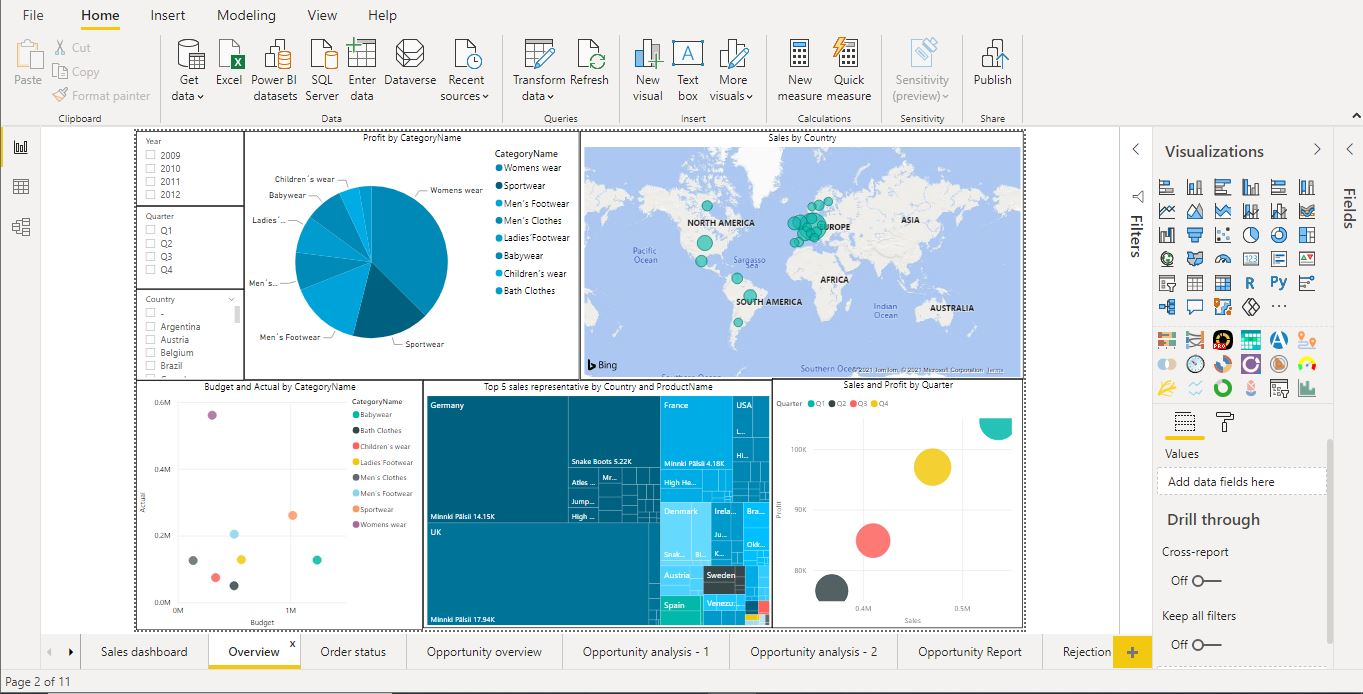

What the dashboard file says about the page in this screenshot:
{"tool":"powerbi","page":{"name":"Overview","canvas":[1280,720],"ordinal":1},"visuals":[{"type":"map","fields":{"Category":["Sales.Country"],"Size":["Sum(Sales.Sales)"]},"box":[640,0,640,359.5],"z":0},{"type":"pieChart","fields":{"Category":["Sales.CategoryName","Sales.ProductName"],"Y":["Sum(Sales.Profit)"]},"box":[156.3,0,483.7,359.5],"z":1000},{"type":"scatterChart","title":"Budget and Actual by CategoryName","fields":{"Series":["Sales.CategoryName"],"X":["Sum(Sales.Budget)"],"Y":["Opportunity.COS plus Freight"]},"box":[0,359.5,413.5,360.9],"z":2000},{"type":"scatterChart","title":"Sales and Profit by Quarter","fields":{"Series":["Sales.Quarter"],"X":["Sum(Sales.Sales)"],"Y":["Sum(Sales.Profit)"],"Size":["Sum(Sales.Profit)"]},"box":[917.6,356.5,362.4,360.9],"z":3000},{"type":"treemap","title":"Top 5 sales representative by Country and ProductName","fields":{"Group":["Sales.Country","Sales.Sales Rep"],"Details":["Sales.ProductName"],"Values":["Sum(Sales.Profit)"]},"box":[413.5,359.5,504.1,358],"z":4000},{"type":"slicer","fields":{"Values":["Sales.Quarter"]},"box":[0,108.1,156.3,119.8],"z":5000},{"type":"slicer","fields":{"Values":["Sales.Year"]},"box":[0,0,156.3,108.1],"z":6000},{"type":"slicer","fields":{"Values":["Sales.Country"]},"box":[0,227.9,156.3,131.5],"z":7000}]}

Visuals, with their boxes on the page's 1280x720 design canvas (x1, y1, x2, y2). These are canvas units, not pixel positions in the 1363x694 screenshot, which may show the page scaled, cropped or inside an application window:
map - Sales.Country x Sum(Sales.Sales): (left=640, top=0, right=1280, bottom=360)
pieChart - Sales.CategoryName x Sales.ProductName: (left=156, top=0, right=640, bottom=360)
"Budget and Actual by CategoryName" scatterChart: (left=0, top=360, right=414, bottom=720)
"Sales and Profit by Quarter" scatterChart: (left=918, top=356, right=1280, bottom=717)
"Top 5 sales representative by Country and ProductName" treemap: (left=414, top=360, right=918, bottom=718)
slicer - Sales.Quarter: (left=0, top=108, right=156, bottom=228)
slicer - Sales.Year: (left=0, top=0, right=156, bottom=108)
slicer - Sales.Country: (left=0, top=228, right=156, bottom=359)
